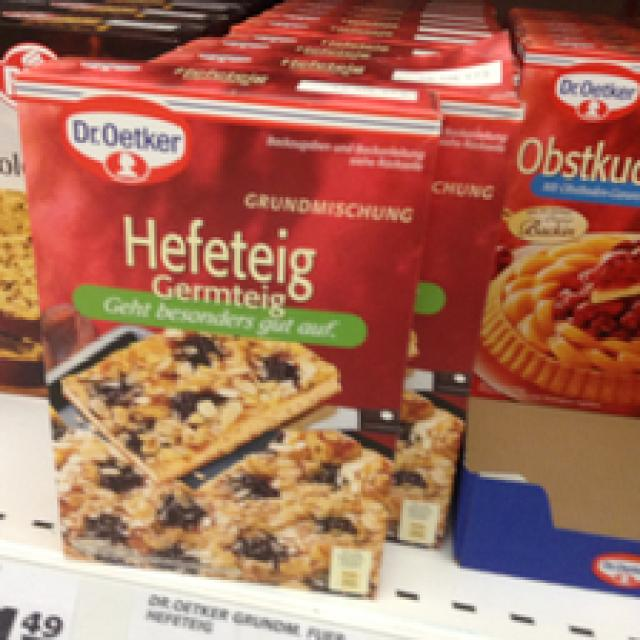groceries: (8, 46, 443, 614)
